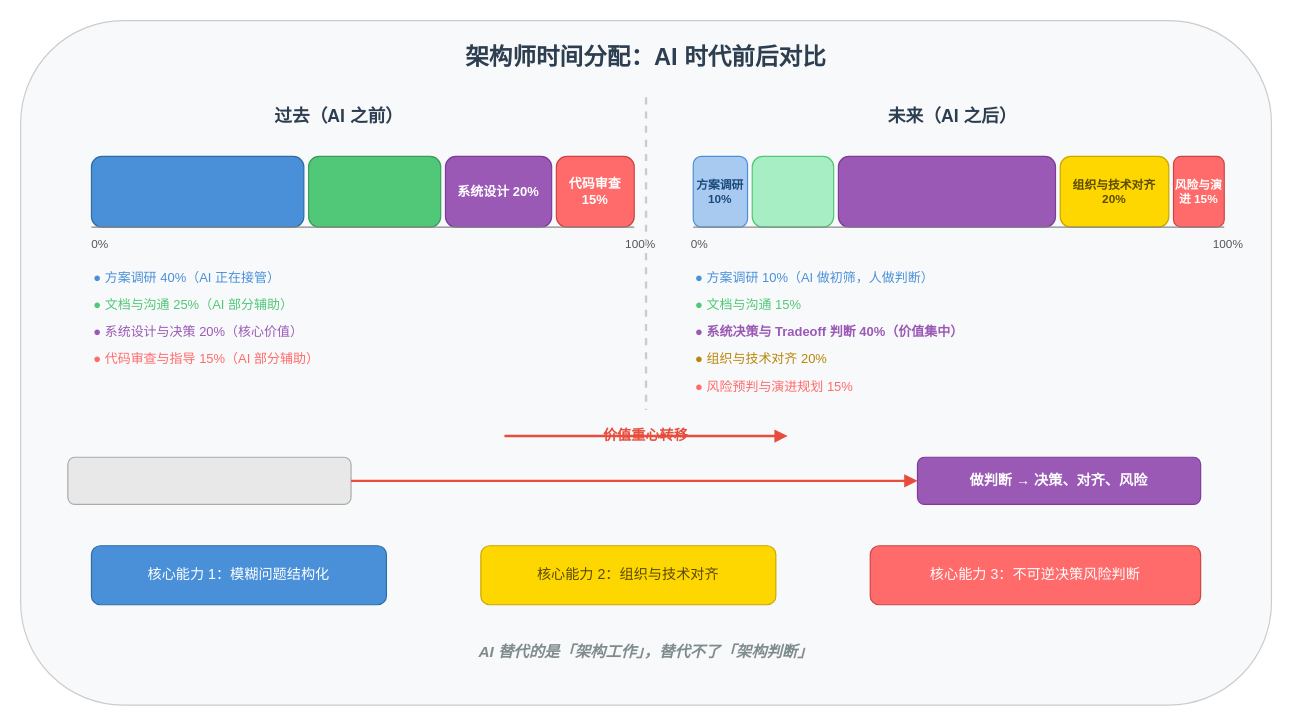
The diagram is 1292 pixels wide and 726 high, and some of its shapes have lost their labels. Here are the shapes that lost their labels. From the top down, the centre of each, then its label:
At (x=197, y=191): "方案调研 40%".
At (x=374, y=191): "文档与沟通 25%".
At (x=792, y=191): "文档 15%".
At (x=946, y=191): "系统决策与 Tradeoff判断 40%".
At (x=209, y=480): "做事 → 调研、编码、写文档".
